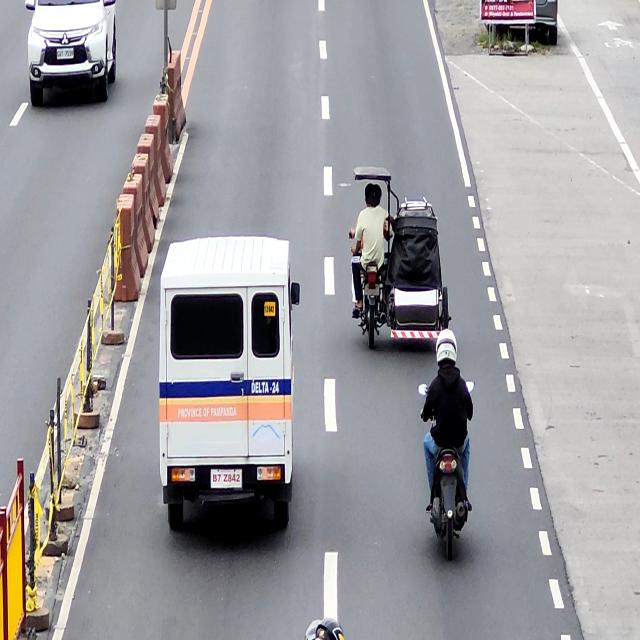License-Plate: (211, 467, 242, 489)
Motorcycle: (419, 380, 475, 562)
Tricycle: (350, 161, 451, 345)
Truck: (157, 233, 302, 536)
